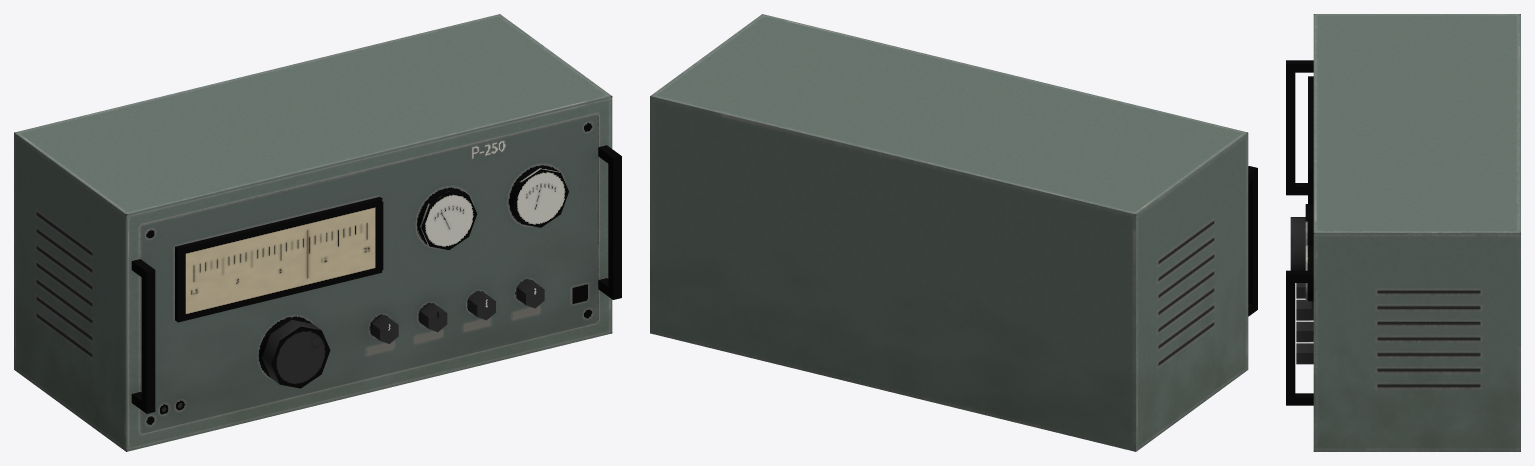
3 renders of one model, left to right at view 1: azimuth 30°, elevation 25°; view 2: azimuth 150°, elevation 25°; view 3: azimuth 270°, elevation 25°, orthographic. The views are drawn at different scales.
Parts seen in each view (by area): view 1: r250_lo; view 2: r250_lo; view 3: r250_lo.
Boxes of the visible parts, x1,y1,x2,y2 form: r250_lo: [14, 14, 621, 451]; r250_lo: [650, 14, 1257, 451]; r250_lo: [1286, 14, 1520, 451].
Size of the model in its own units: 0.9 by 0.42 by 0.408.
Materials: 1 (1 with a texture image).
